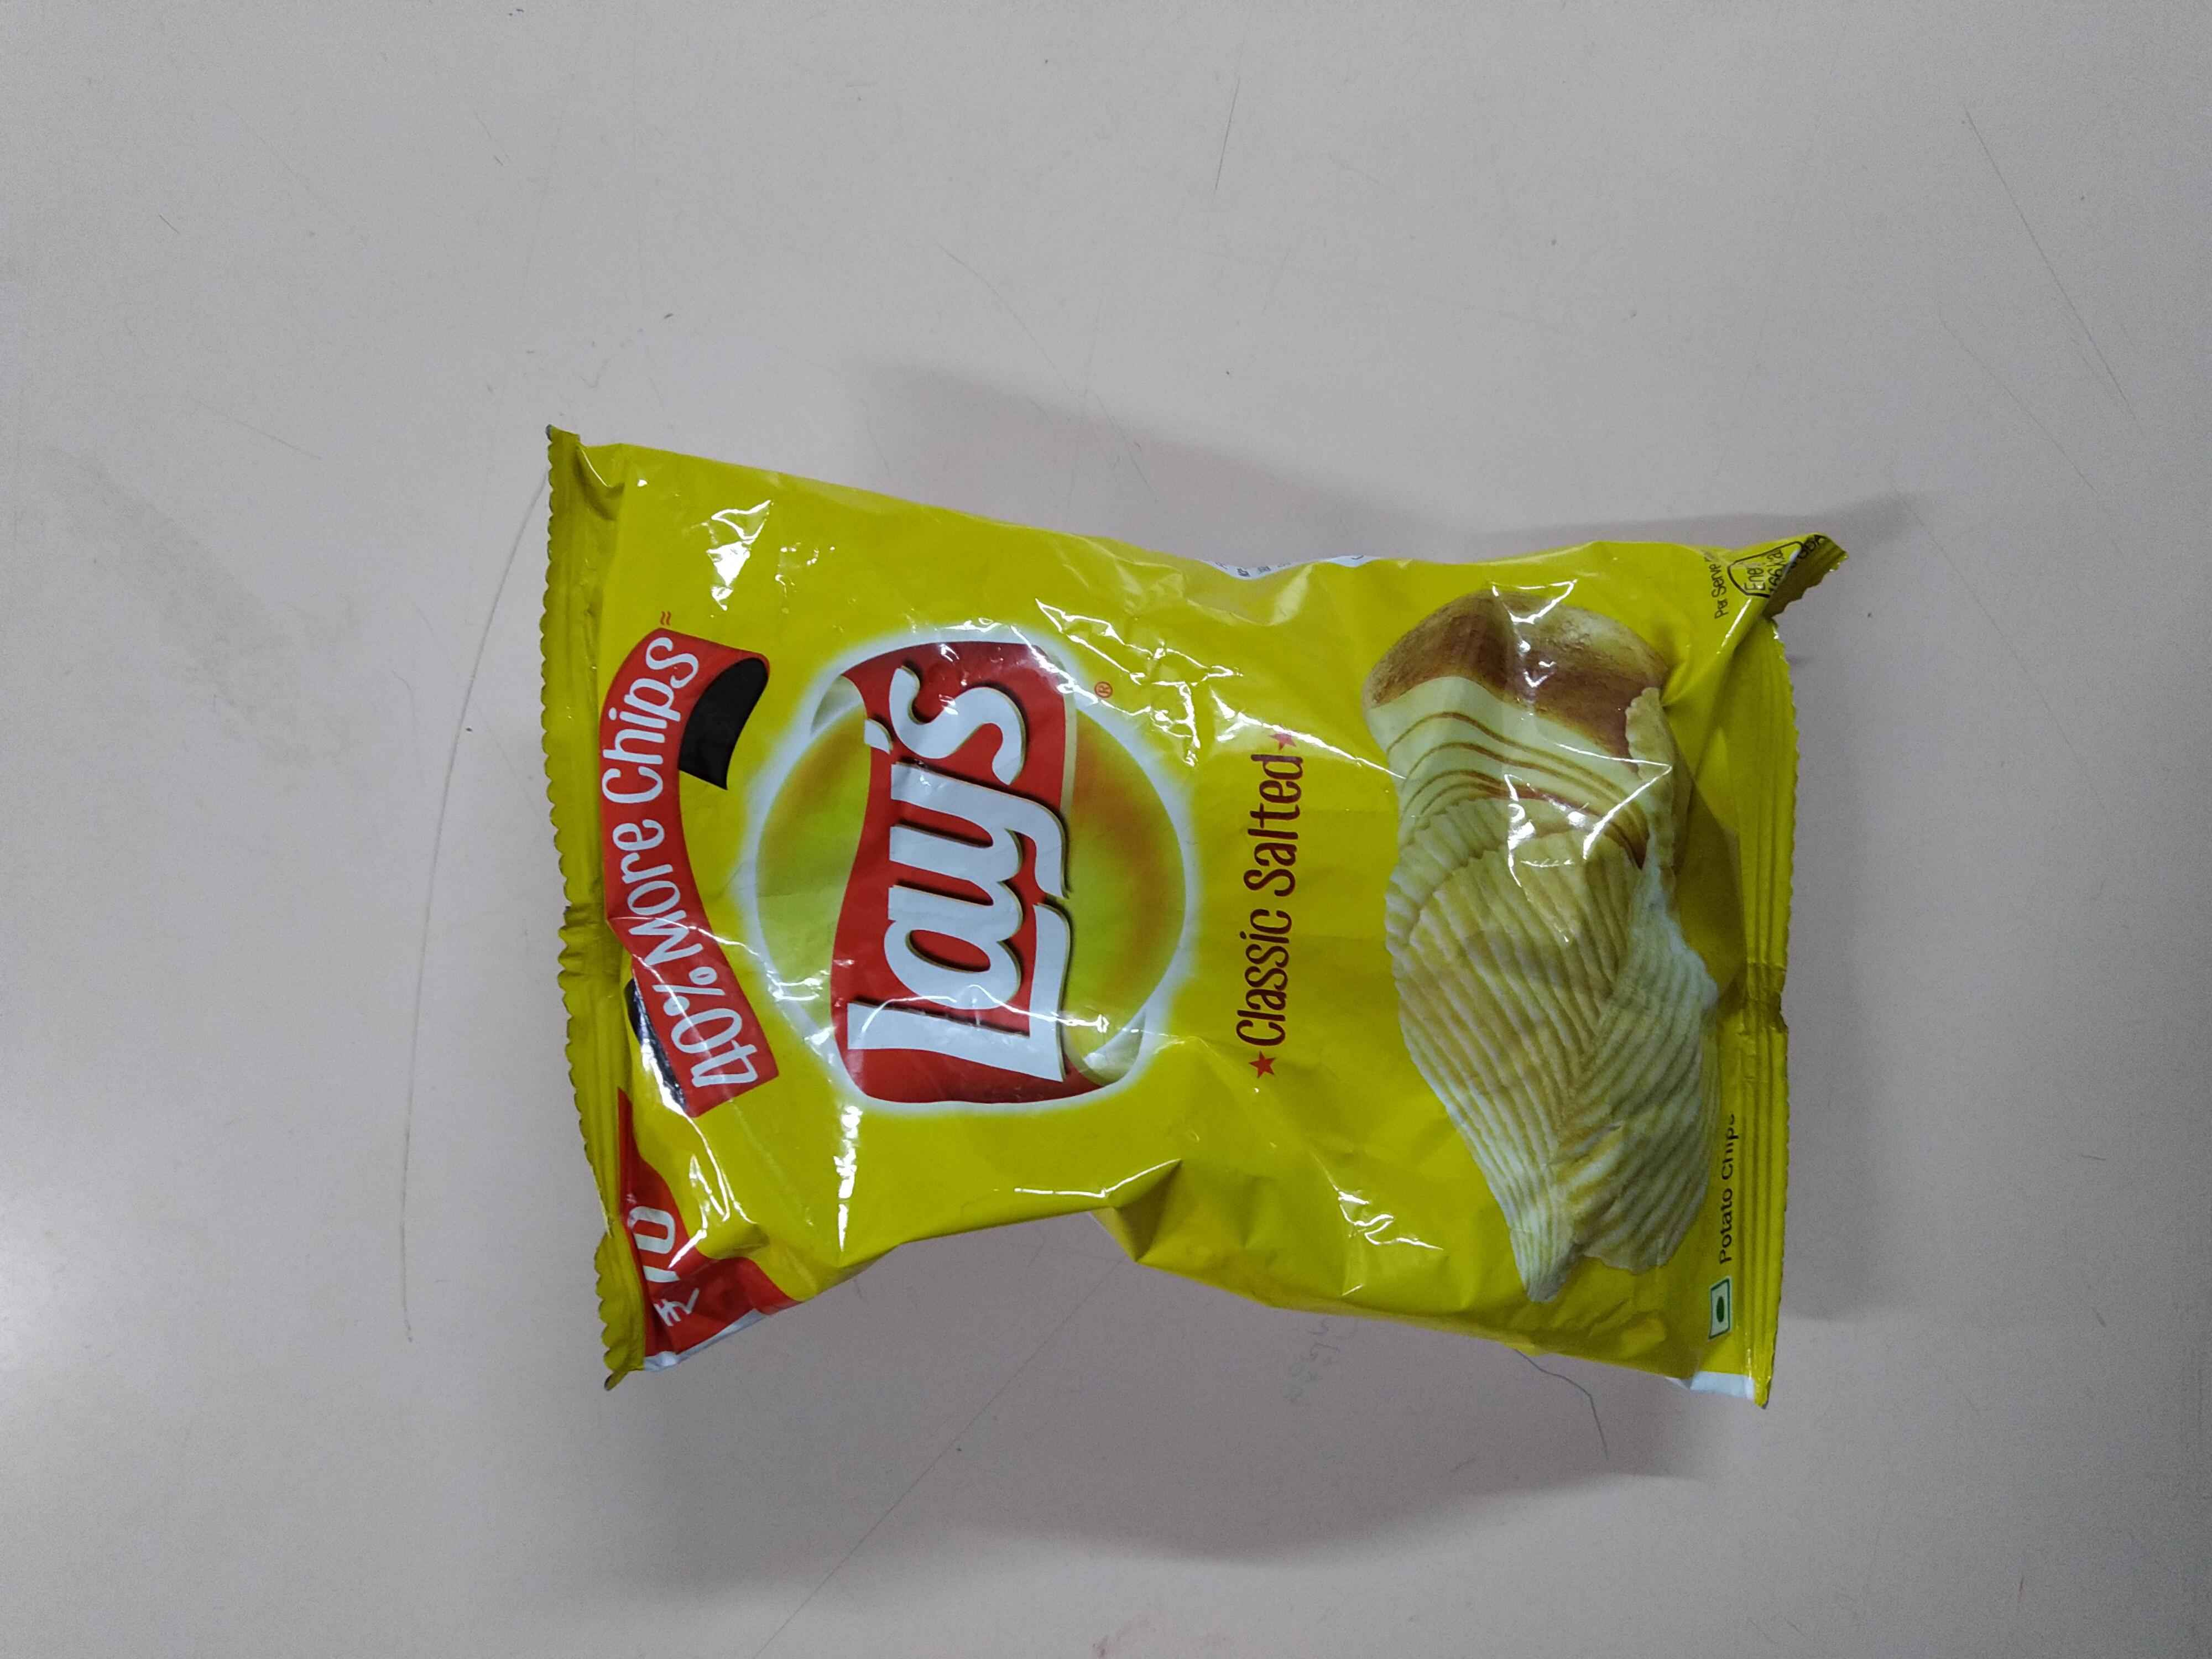Lays: (759, 610, 1193, 1136)
